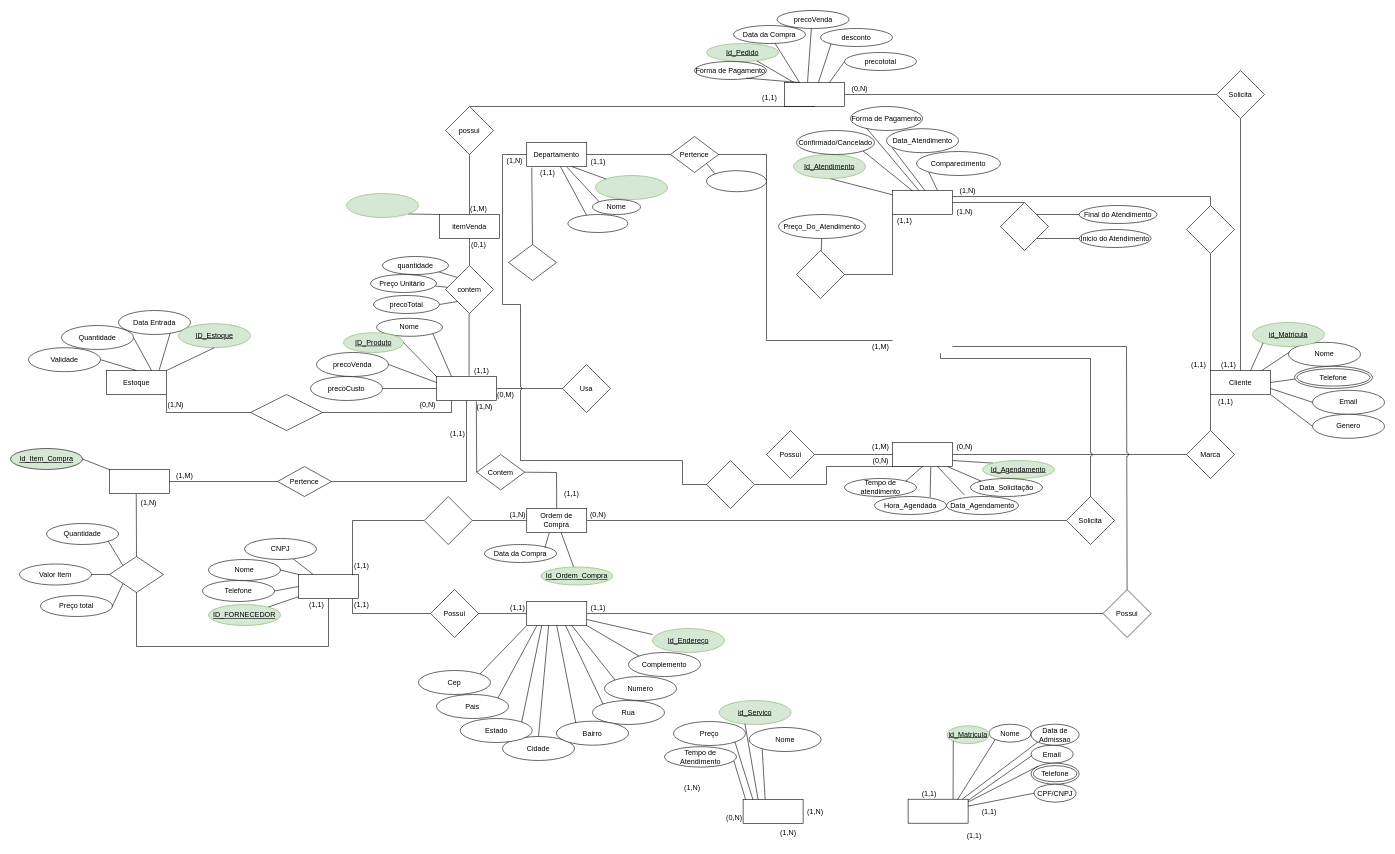
This 1395x854 diagram has some shape labels left out. Each missing label, with the centre of its shape:
"Agendamento" goes at point 922,454.
"armazena" goes at point 286,412.
"Atendimento" goes at point 922,202.
"Data_Entrada" goes at point 736,181.
"Escolhido" goes at point 730,484.
"Feito" goes at point 820,274.
"Fornece" goes at point 136,574.
"Fornecedor" goes at point 328,586.
"Id_Departamento" goes at point 631,187.
"Idvenda" goes at point 382,205.
"Item_de_Compra" goes at point 139,481.
"Localização" goes at point 556,613.
"Produto" goes at point 466,388.
"Profissional" goes at point 938,811.
"Realiza" goes at point 1024,226.
"Realizado" goes at point 532,262.
"Recebe" goes at point 448,520.
"Recebeu" goes at point 1210,229.
"Salario_Fixo" goes at point 597,223.
"Serviço" goes at point 772,811.
"venda" goes at point 814,94.
